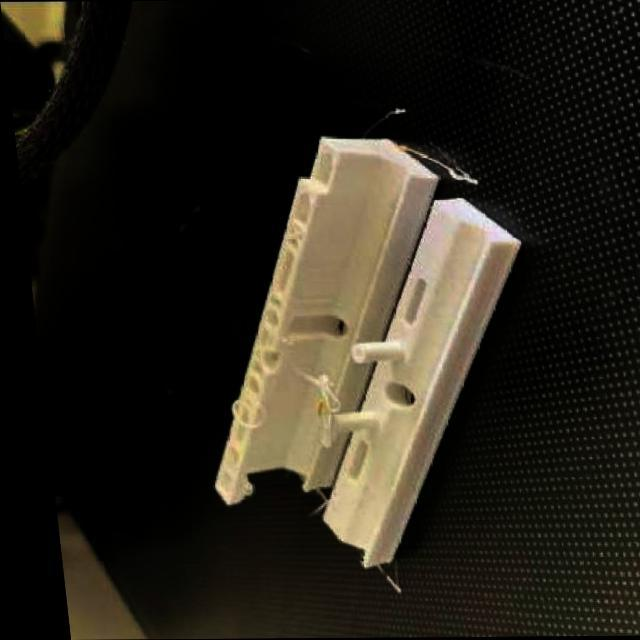spaghetti: (303, 376, 332, 446), (216, 385, 258, 428), (291, 487, 320, 516)
